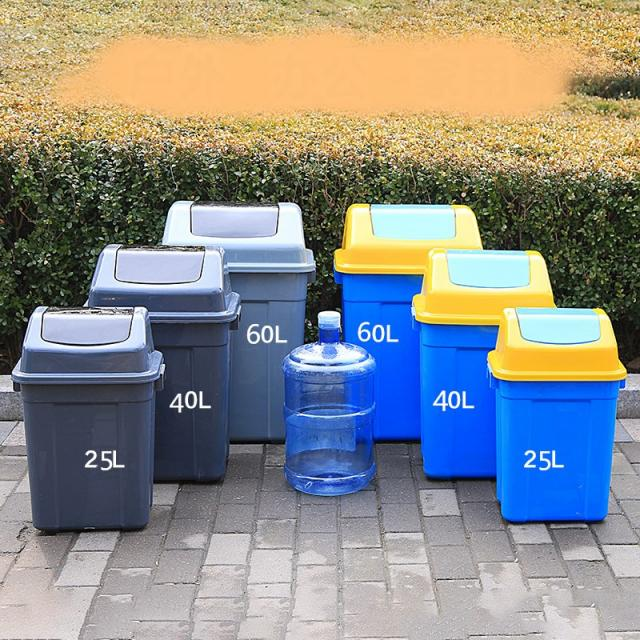ash bin: (162, 199, 315, 441), (331, 202, 482, 442), (409, 244, 559, 483), (13, 304, 170, 530), (94, 242, 240, 483), (488, 304, 625, 522)
